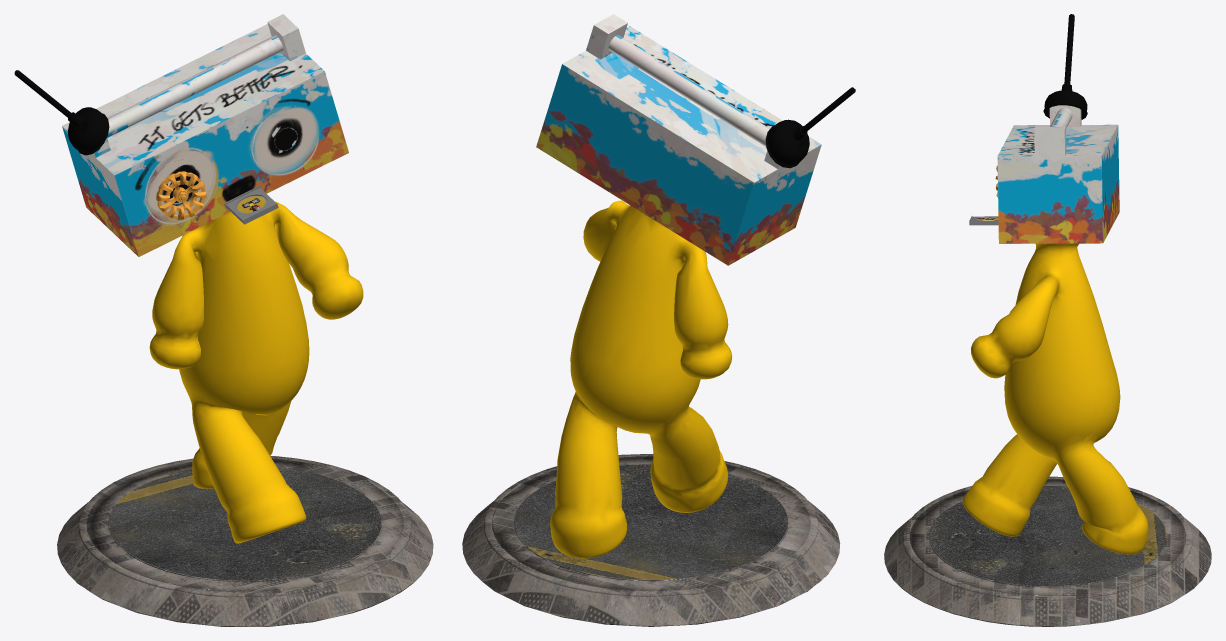
The picture shows the model from 3 angles, left to right: view 1: azimuth 30°, elevation 25°; view 2: azimuth 150°, elevation 25°; view 3: azimuth 270°, elevation 25°; orthographic projection. The views are drawn at different scales.
Visible parts, largest first — view 1: BBody; view 2: BBody; view 3: BBody.
Boxes of the visible parts, x1,y1,x2,y2 form: BBody: (14,14,433,626); BBody: (462,14,855,626); BBody: (884,14,1211,626).
Size of the model in its own units: 1.68 by 2.21 by 1.45.
10 materials, 5 textured.
